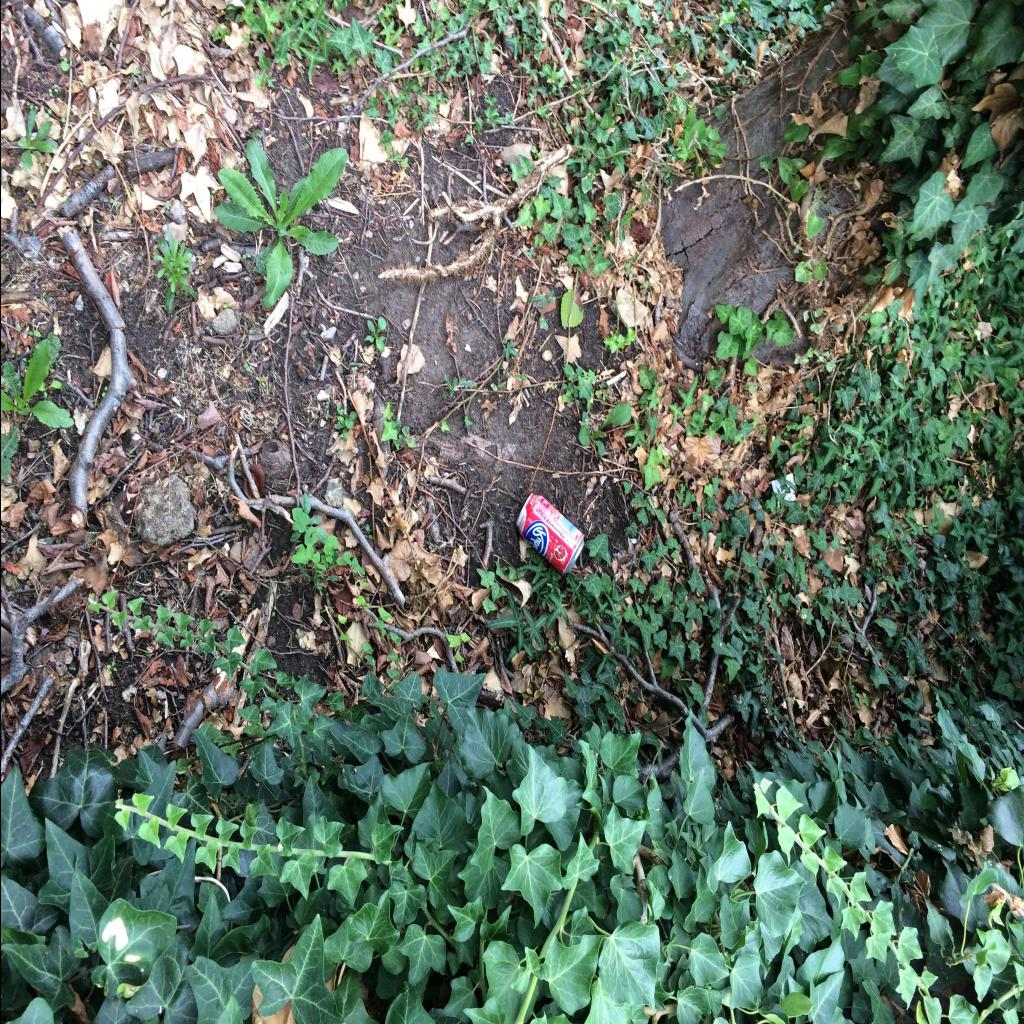Drink can: (515, 492, 584, 576)
Unlabeled litter: (770, 473, 794, 506)
